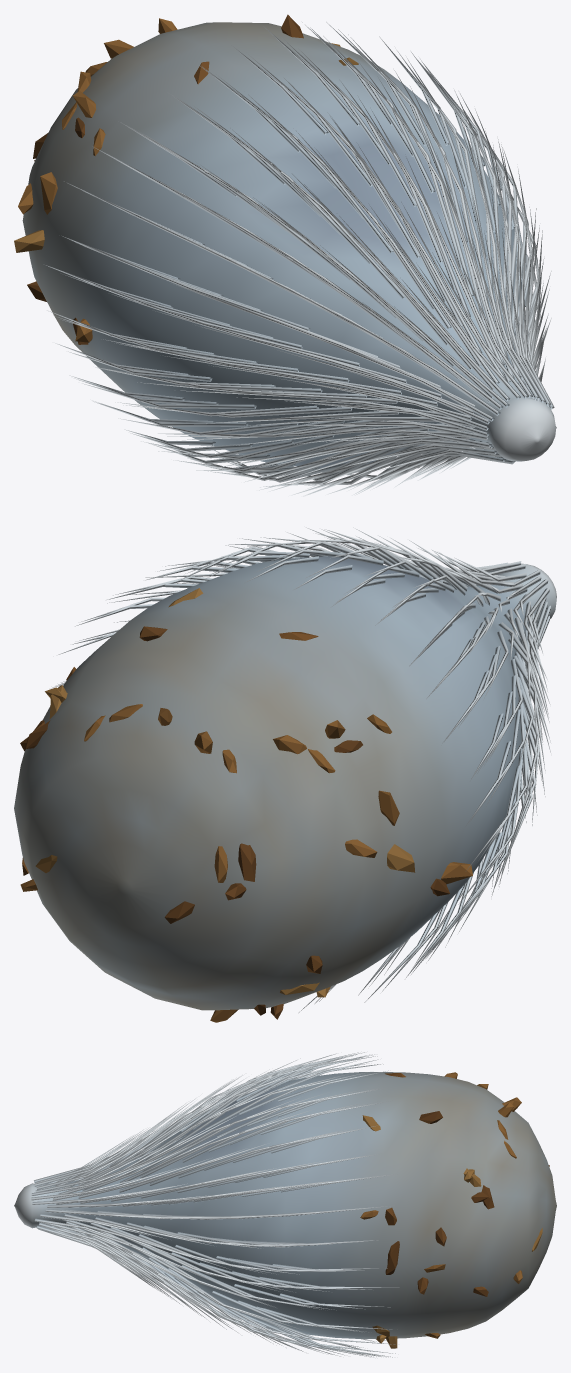
File: TrichonymphaCampanula.fbx
3 renders of one model, top to bottom at view 1: azimuth 30°, elevation 25°; view 2: azimuth 150°, elevation 25°; view 3: azimuth 270°, elevation 25°, orthographic. The views are drawn at different scales.
Visible parts, largest first — view 1: TrichonymphaCampanula; view 2: TrichonymphaCampanula; view 3: TrichonymphaCampanula.
Boxes of the visible parts, x1,y1,x2,y2 form: TrichonymphaCampanula: (14,14,556,496); TrichonymphaCampanula: (14,527,556,1022); TrichonymphaCampanula: (14,1052,556,1357).
Bounding box in the file's own units: 1.08 × 1.01 × 1.8.
